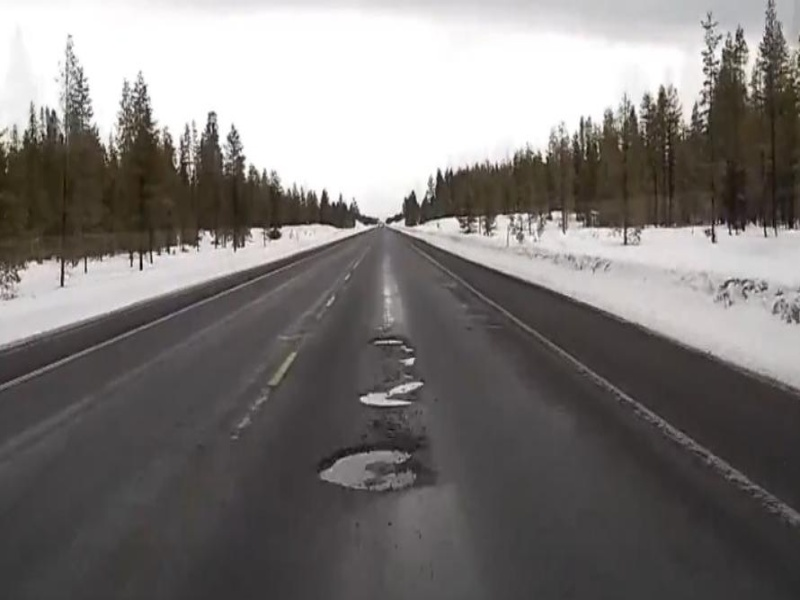pothole: (315, 441, 421, 501), (360, 377, 429, 407)
